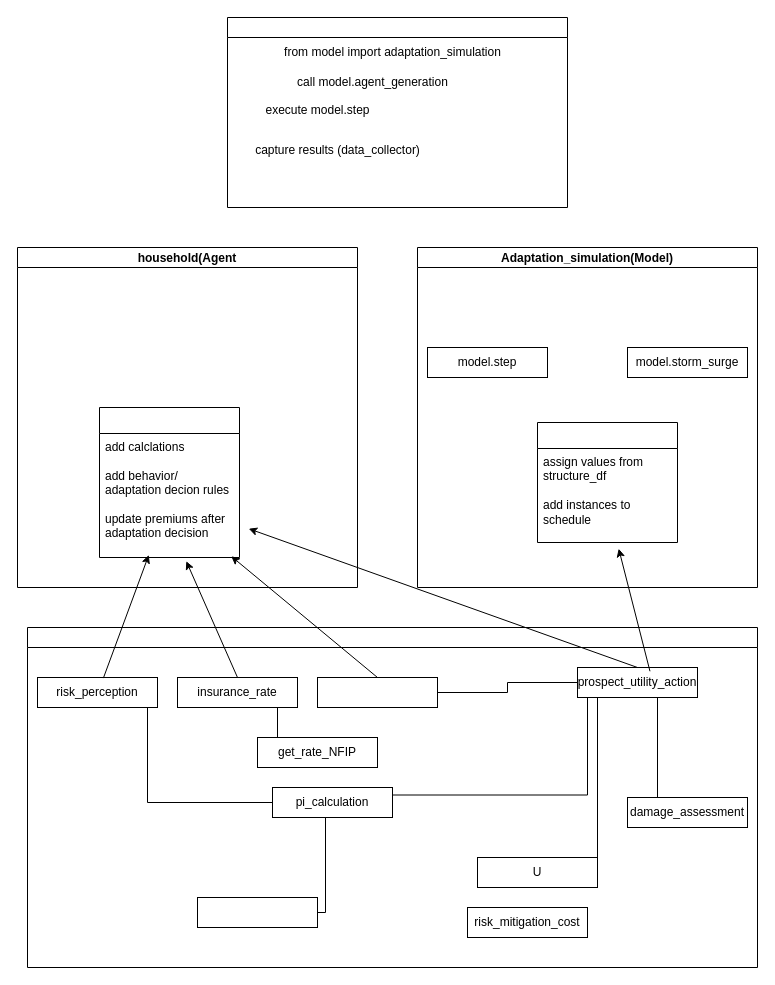
The diagram is 775 pixels wide and 985 high, and some of its shapes have lost their labels. Each missing label, with the box of its shape:
agent.step: (98, 406, 240, 558)
elevation_cost: (316, 676, 438, 708)
flood_frequency: (196, 896, 318, 928)
functions.py: (26, 626, 758, 968)
model.agent_generation: (536, 422, 678, 542)
simulation.py: (226, 16, 568, 208)
